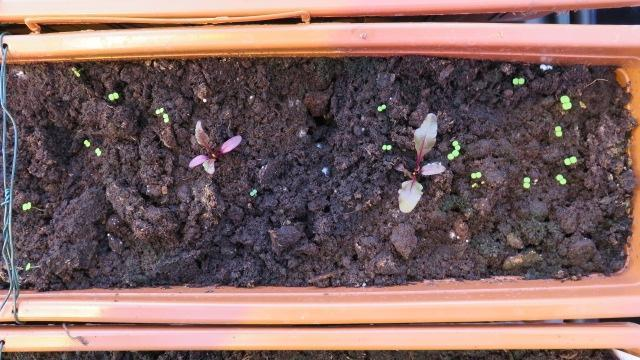crop: (182, 114, 244, 175)
weed: (557, 93, 573, 110), (550, 123, 564, 137), (559, 154, 578, 164), (157, 110, 170, 123), (553, 172, 566, 184), (18, 199, 32, 210), (519, 175, 530, 189), (509, 75, 526, 84), (105, 90, 119, 100), (151, 104, 166, 113), (377, 143, 393, 150), (466, 170, 482, 177), (91, 146, 102, 156), (374, 102, 386, 111), (80, 137, 91, 146)
